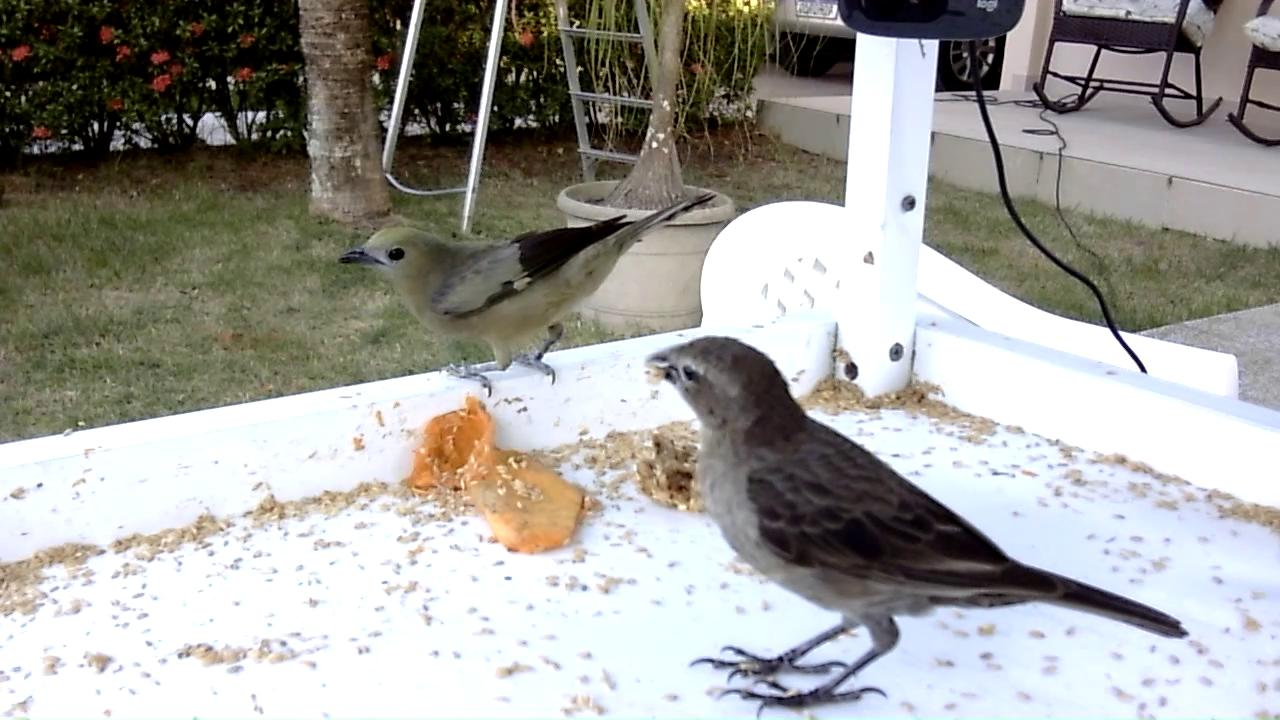chupim: (640, 331, 1195, 720)
sanhaco_do_coqueiro: (334, 188, 722, 402)
